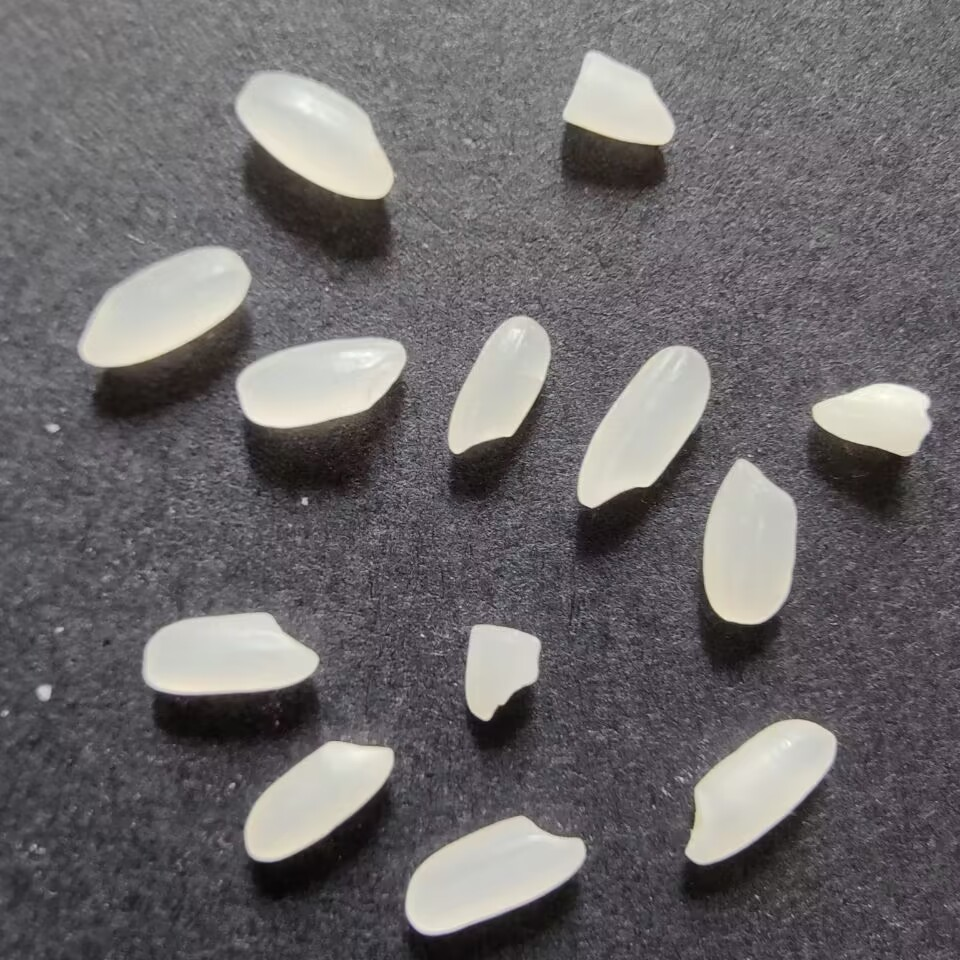broken: (560, 44, 677, 151), (805, 379, 935, 459), (462, 620, 546, 724)
rice: (398, 810, 594, 939), (680, 715, 843, 869), (573, 341, 715, 510), (71, 240, 254, 371), (229, 70, 400, 205), (241, 737, 401, 872), (233, 334, 413, 435), (699, 454, 801, 631), (134, 608, 322, 703), (441, 310, 556, 458)
